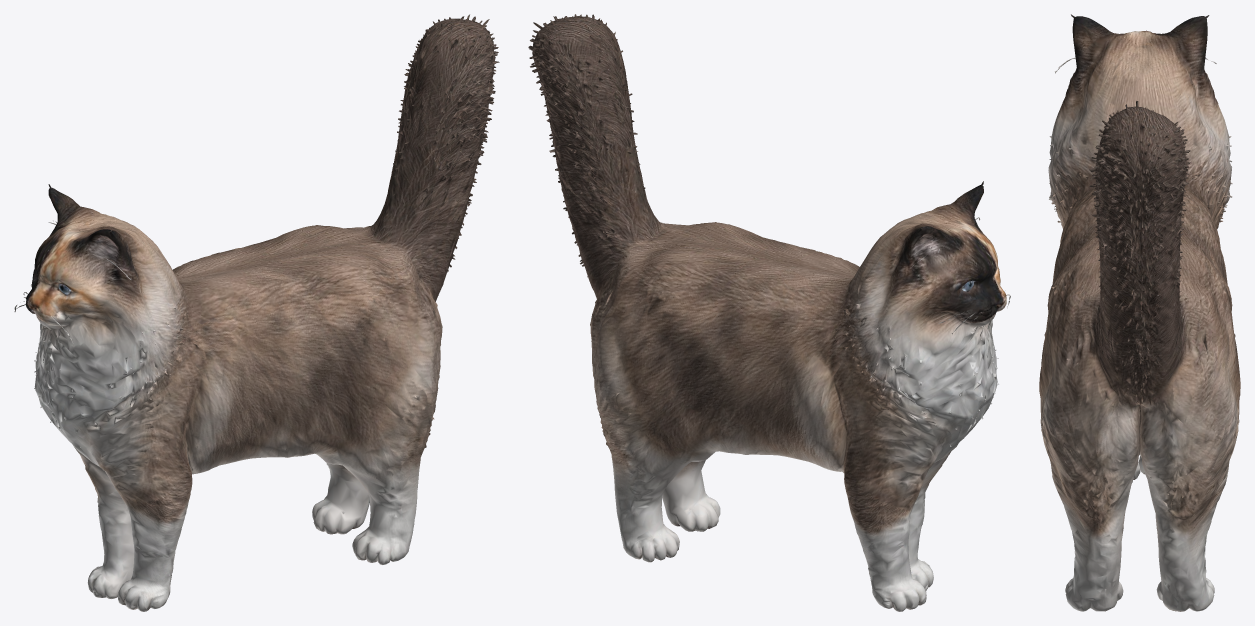
The model's file is MIETTE.glb.
The picture shows the model from 3 angles, left to right: view 1: azimuth 30°, elevation 25°; view 2: azimuth 150°, elevation 25°; view 3: azimuth 270°, elevation 25°; orthographic projection. The views are drawn at different scales.
Parts seen in each view (by area): view 1: tripo_node_31e5bddf-21a9-478f-aa72-105202114a3c; view 2: tripo_node_31e5bddf-21a9-478f-aa72-105202114a3c; view 3: tripo_node_31e5bddf-21a9-478f-aa72-105202114a3c.
Boxes of the visible parts, x1,y1,x2,y2 form: tripo_node_31e5bddf-21a9-478f-aa72-105202114a3c: [14, 14, 499, 611]; tripo_node_31e5bddf-21a9-478f-aa72-105202114a3c: [528, 14, 1010, 611]; tripo_node_31e5bddf-21a9-478f-aa72-105202114a3c: [1039, 14, 1240, 611].
Size of the model in its own units: 0.9797 by 0.9982 by 0.3339.
Materials: 1 (1 with a texture image).
